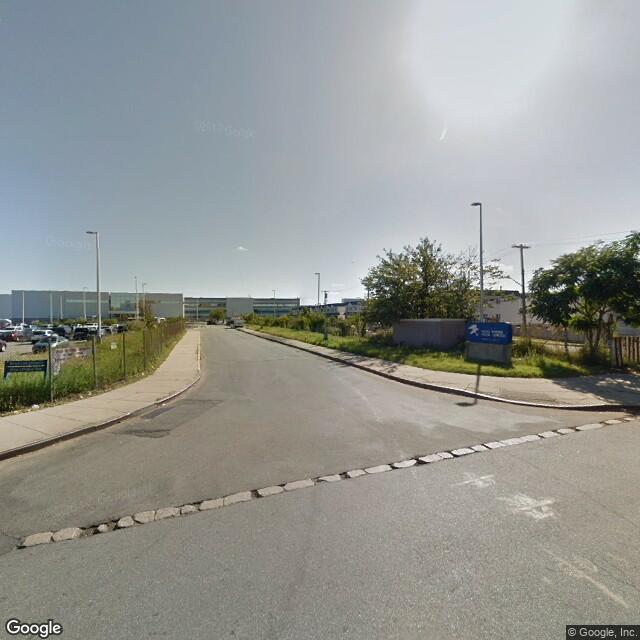litter: (33, 403, 42, 408), (79, 394, 84, 399), (89, 390, 92, 394), (141, 371, 143, 375)
